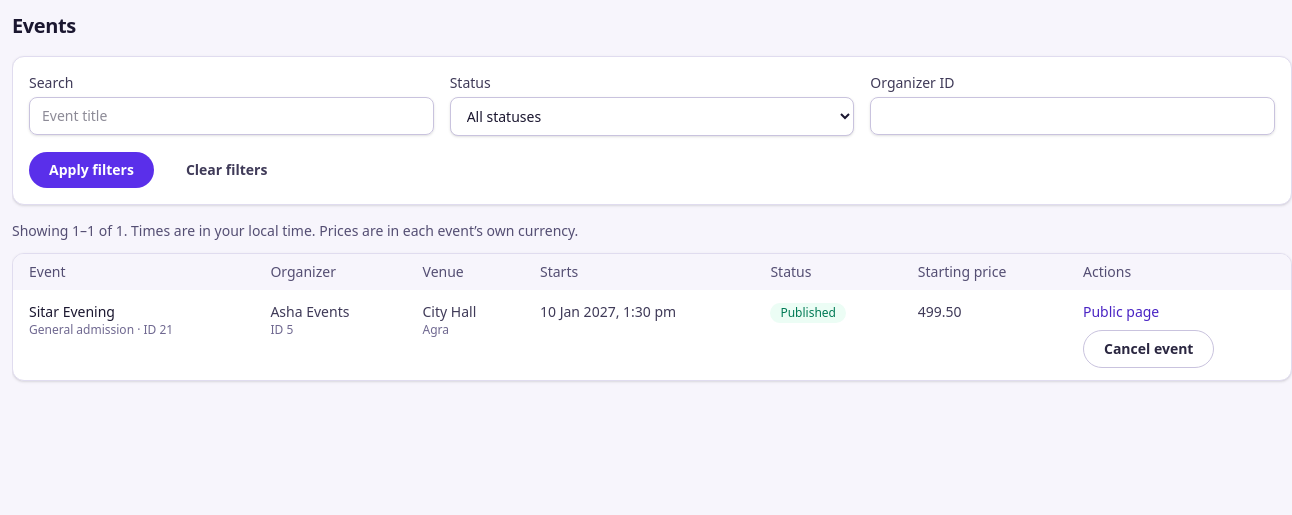
Test: AdminEventsPage › cancels an event only after a second confirmation that explains the consequences, then reloads
Click the button with aria-label "Cancel Sitar Evening".
click(1149, 349)  # box [1083, 330, 1214, 368]
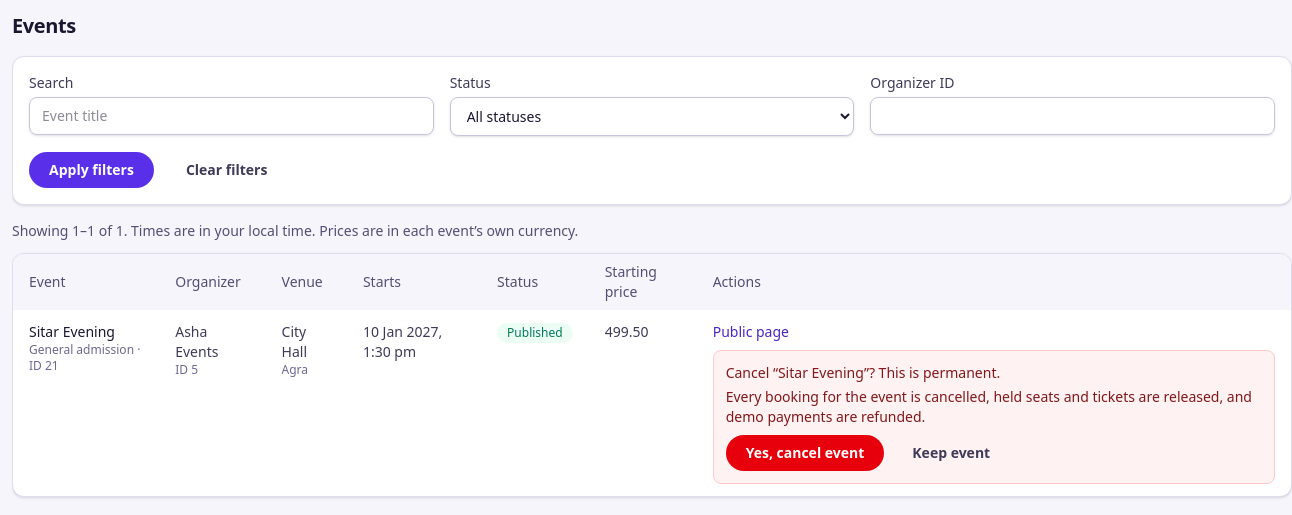
Check: the text "Cancel “Sitar Evening”? This is permanent." is shown, box [726, 363, 1000, 382]
Check: the text "demo payments are refunded" is shown, box [726, 387, 1252, 426]
Click the button "Yes, cancel event".
click(805, 453)  # box [726, 435, 884, 471]
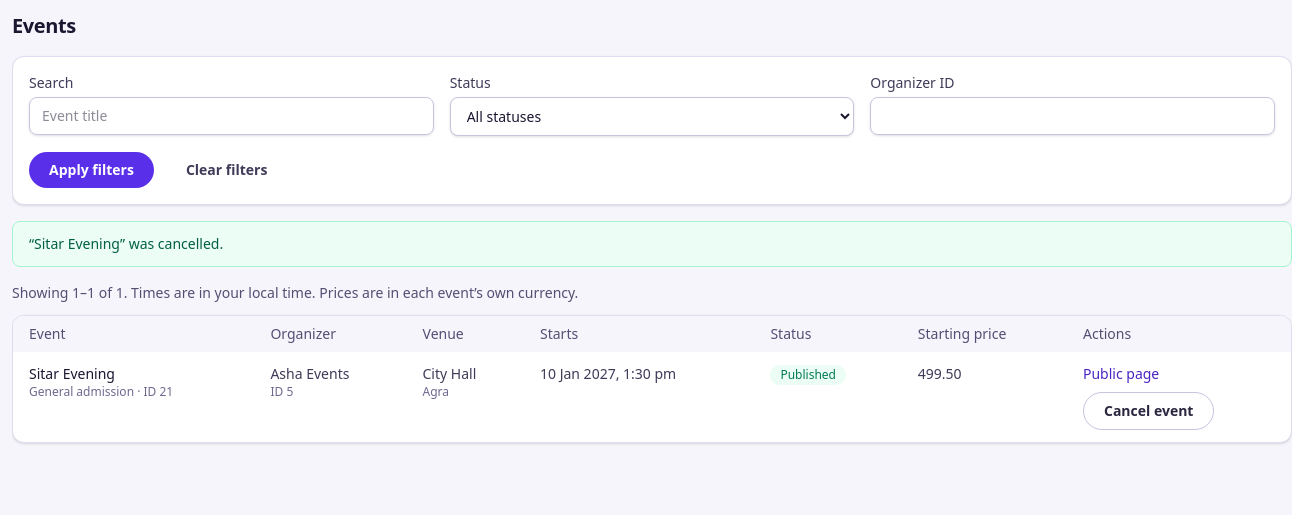
Check: the text "“Sitar Evening” was cancelled." is shown, box [12, 221, 1291, 267]
